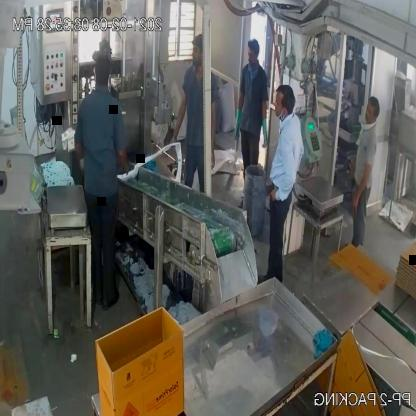glove: (256, 105, 276, 159), (234, 90, 247, 143)
no_glove: (268, 128, 301, 209), (165, 79, 193, 152), (349, 148, 380, 212), (206, 92, 221, 179)
